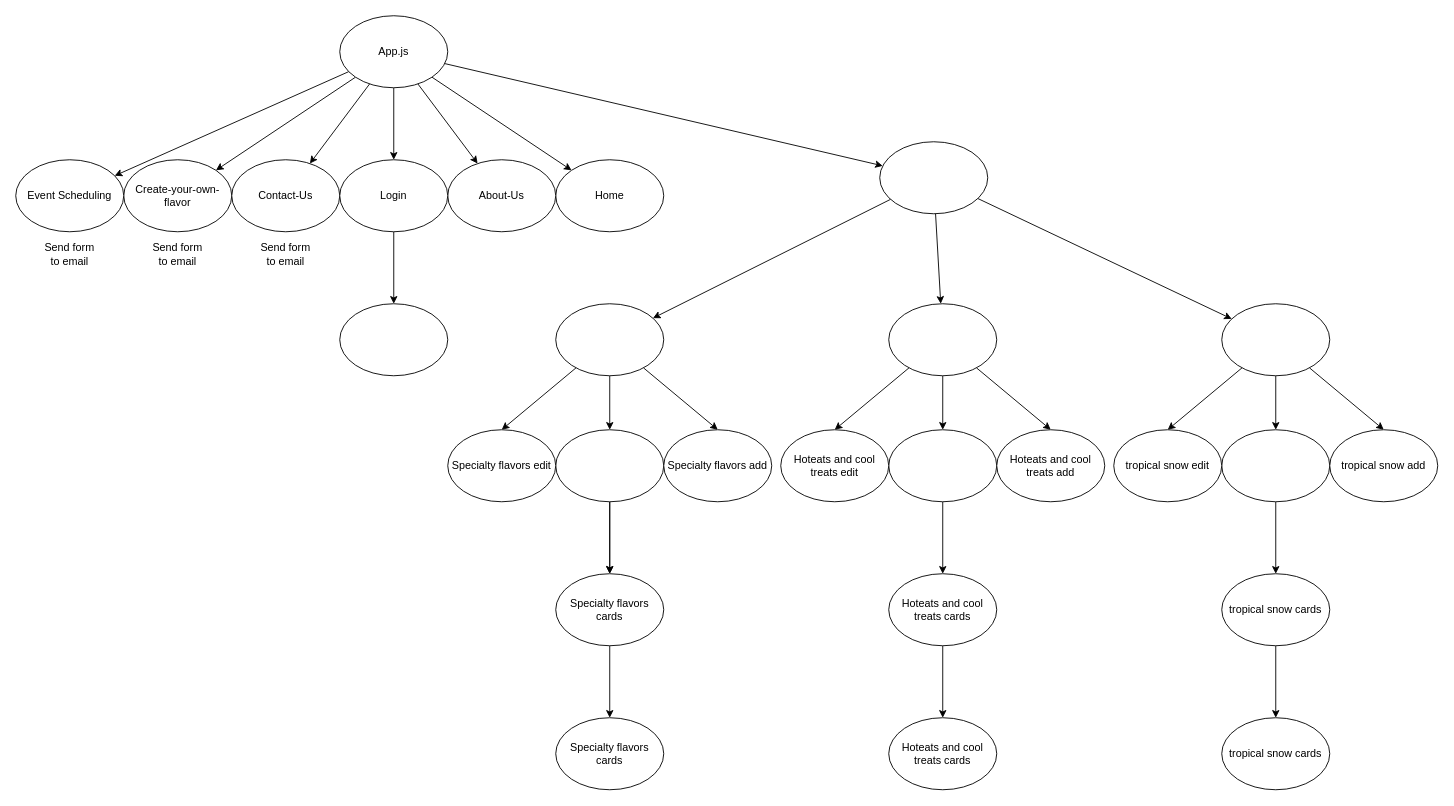
This 1454x806 diagram has some shape labels left out. The shapes that lost their labels are listed below. From the top down, each one's centre as x and y in pixels, then its label:
At point 933,177: "Menu".
At point 393,339: "Register".
At point 609,339: "Specialty flavors".
At point 942,339: "Hoteats and cool treats".
At point 1275,339: "tropical snow".
At point 609,465: "Specialty flavors details".
At point 942,465: "Hoteats and cool treats details".
At point 1275,465: "tropical snow details".
